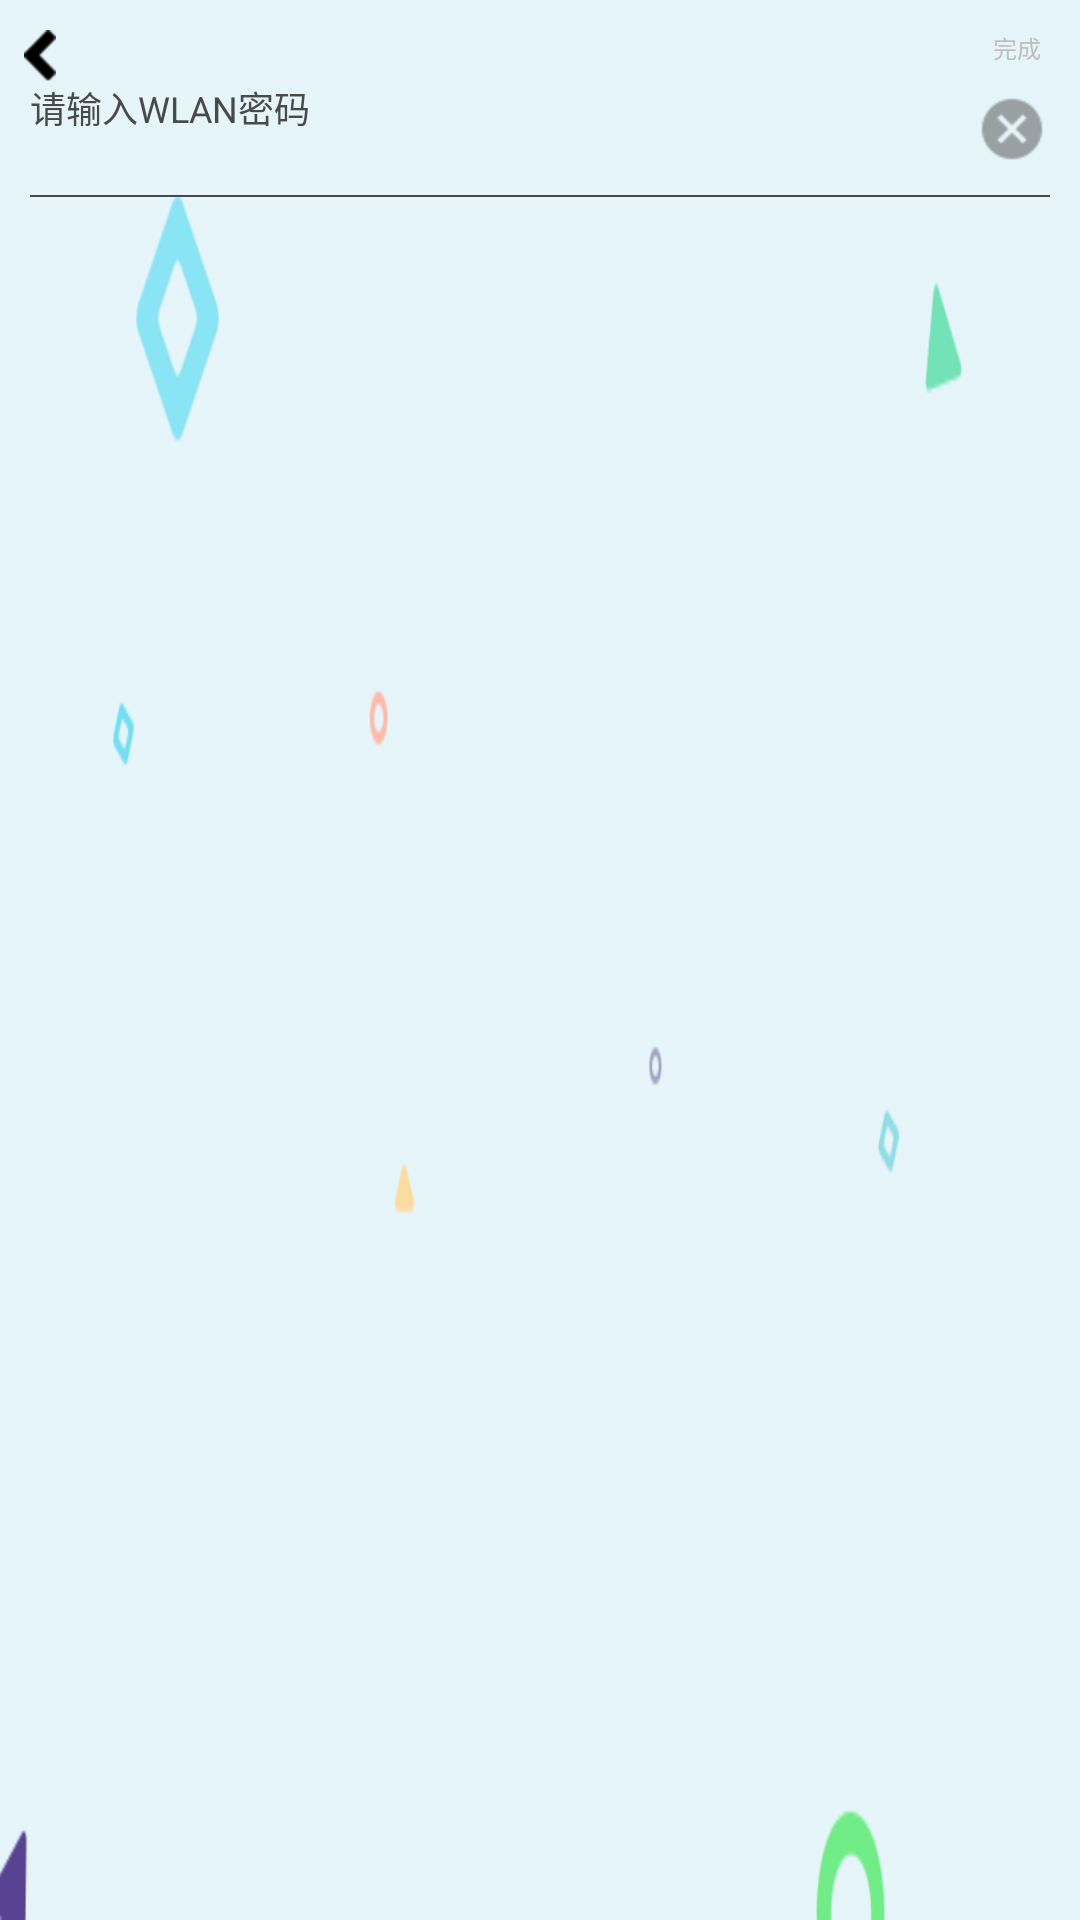

Icon click points for this 1080×1920 phone screenshot, format point (x, y):
clear all: point (1012, 129)
go back: point (40, 55)
